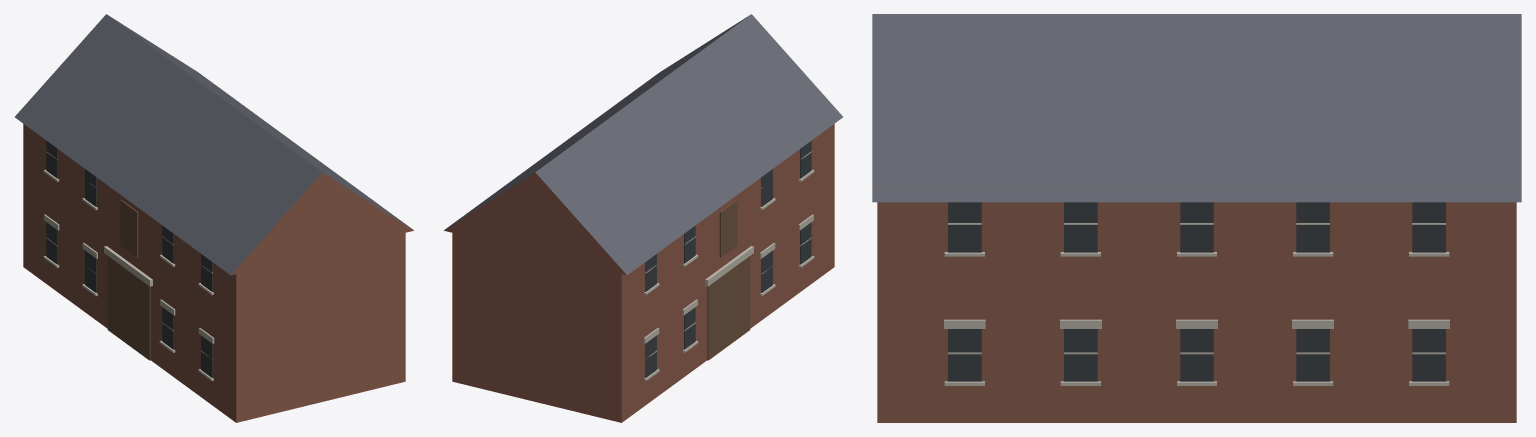
File: law_house_1620_prairie_coach_house__draft_1904.glb
The picture shows the model from 3 angles, left to right: view 1: azimuth 30°, elevation 25°; view 2: azimuth 150°, elevation 25°; view 3: azimuth 270°, elevation 25°; orthographic projection. The views are drawn at different scales.
Visible parts, largest first — view 1: law_house_1620_prairie_coach_house__draft_1904; view 2: law_house_1620_prairie_coach_house__draft_1904; view 3: law_house_1620_prairie_coach_house__draft_1904.
Boxes of the visible parts, x1,y1,x2,y2 form: law_house_1620_prairie_coach_house__draft_1904: (14, 14, 413, 422); law_house_1620_prairie_coach_house__draft_1904: (444, 14, 843, 422); law_house_1620_prairie_coach_house__draft_1904: (872, 14, 1521, 422).
Size of the model in its own units: 7.6 by 9.14 by 15.49.
